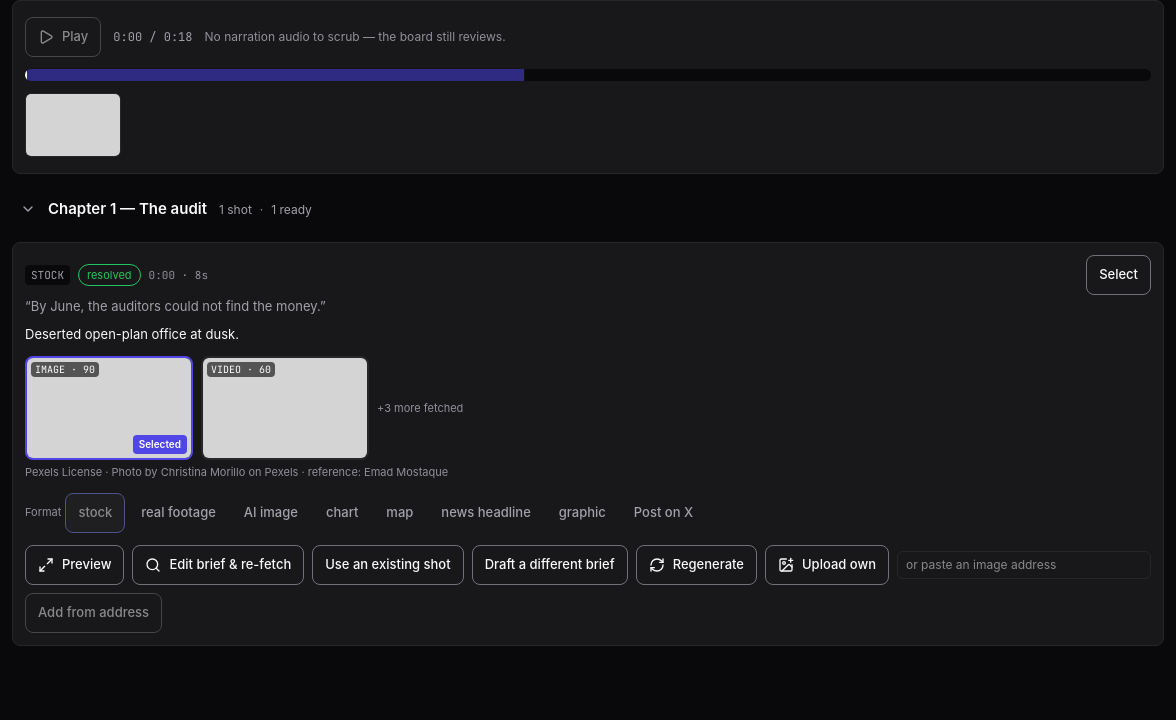
Test case: the plan phase (staged-visuals design) › says so when the dossier carries no news claim, instead of offering nothing
Click the button "news headline".
click(486, 512)  # box x1=429 y1=492 x2=543 y2=532
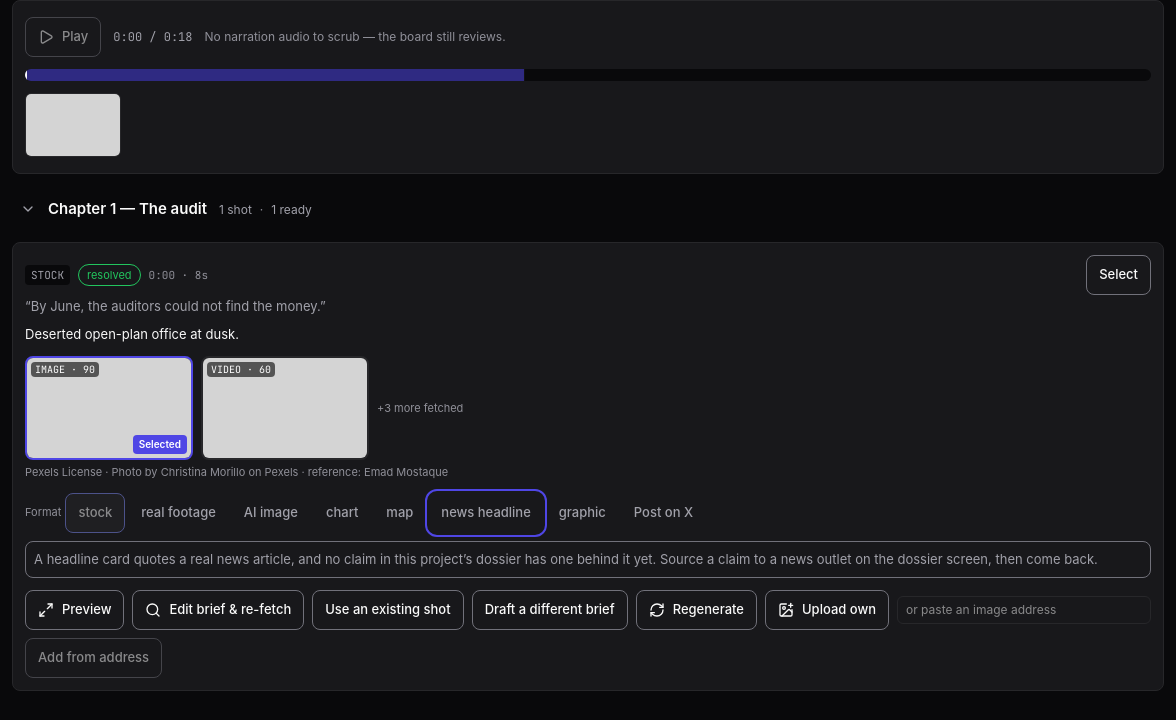
Now the element named "Which article this card quotes" shows "no claim in this project’s dossier has one behind it", box x1=34 y1=550 x2=1098 y2=566
